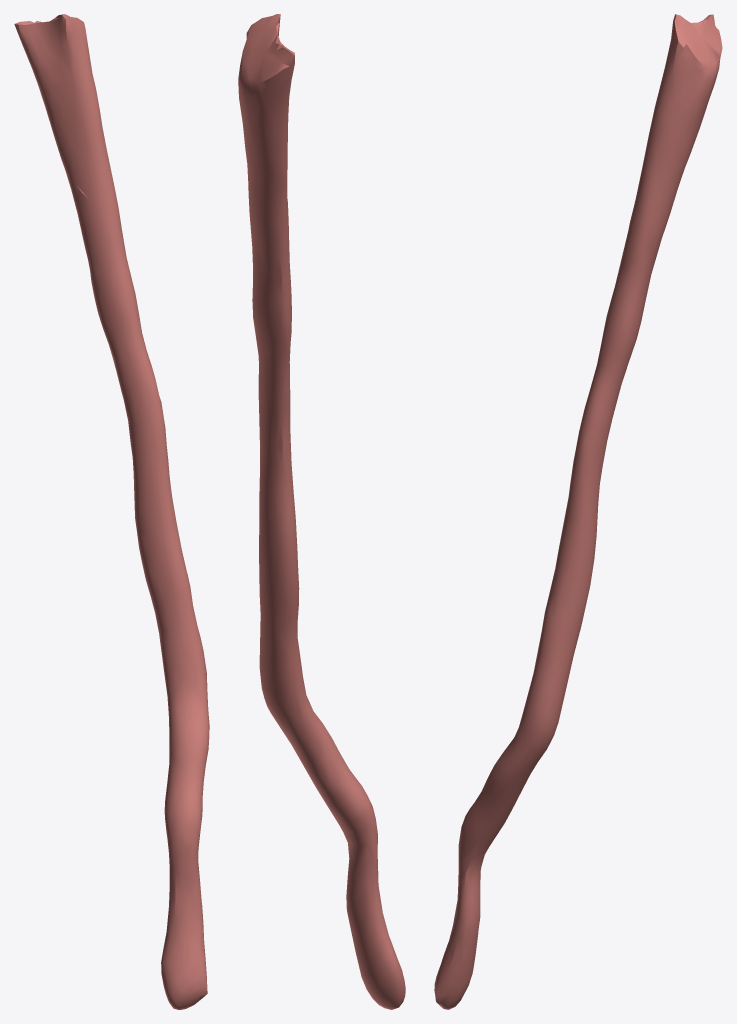
Rendered from fma40721_mm1973m.glb.
3 views of the same model, side by side, from view 1: azimuth 30°, elevation 25°; view 2: azimuth 150°, elevation 25°; view 3: azimuth 270°, elevation 25° (orthographic). The views are drawn at different scales.
Visible parts, largest first — view 1: FMA40721_MM1973M; view 2: FMA40721_MM1973M; view 3: FMA40721_MM1973M.
Part boxes in pixels (x1,y1,x2,y2): FMA40721_MM1973M: [14, 14, 209, 1009]; FMA40721_MM1973M: [238, 14, 405, 1009]; FMA40721_MM1973M: [434, 14, 722, 1009].
Bounding box in the file's own units: 0.0139 × 0.1129 × 0.0299.
